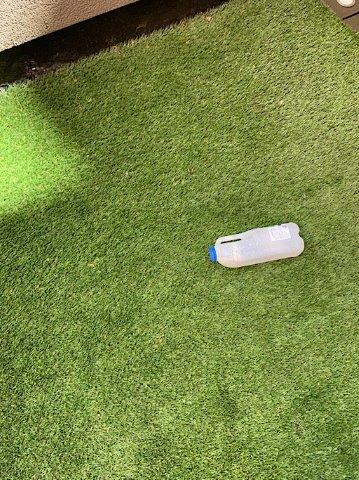botolplastik: (211, 223, 304, 267)
